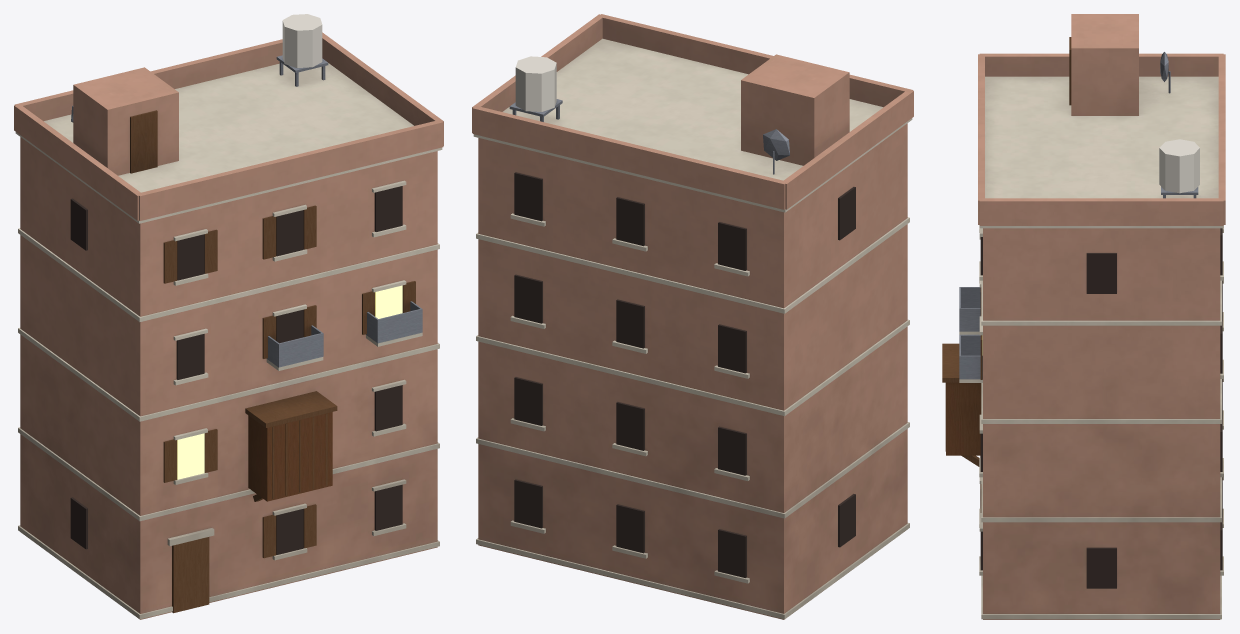
File: hus_kairo_2_tex.glb
The picture shows the model from 3 angles, left to right: view 1: azimuth 30°, elevation 25°; view 2: azimuth 150°, elevation 25°; view 3: azimuth 270°, elevation 25°; orthographic projection. The views are drawn at different scales.
Parts seen in each view (by area): view 1: hus_kairo_2; view 2: hus_kairo_2; view 3: hus_kairo_2.
Part boxes in pixels (left/top/right/bottom): hus_kairo_2: left=14, top=14, right=443, bottom=619; hus_kairo_2: left=472, top=14, right=913, bottom=619; hus_kairo_2: left=942, top=14, right=1225, bottom=619.
Bounding box in the file's own units: 10.3 × 15.25 × 8.35.
8 materials, 5 textured.
